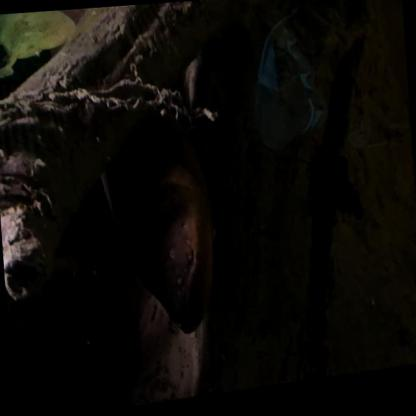fish: (93, 93, 225, 342)
